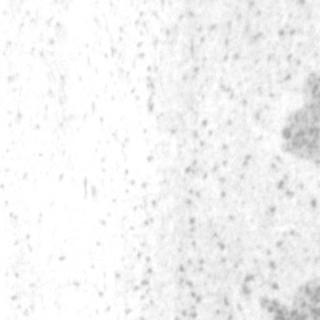pitted_surface: (95, 8, 315, 316), (2, 2, 78, 308)
